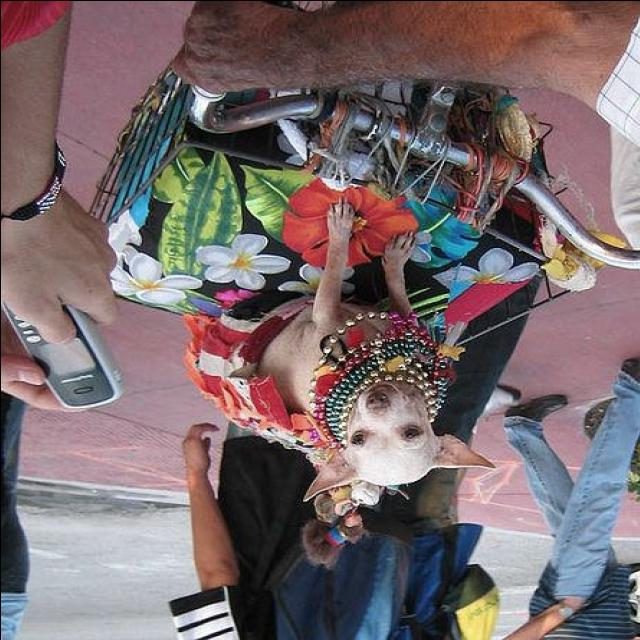chihuahua: (182, 200, 494, 504)
